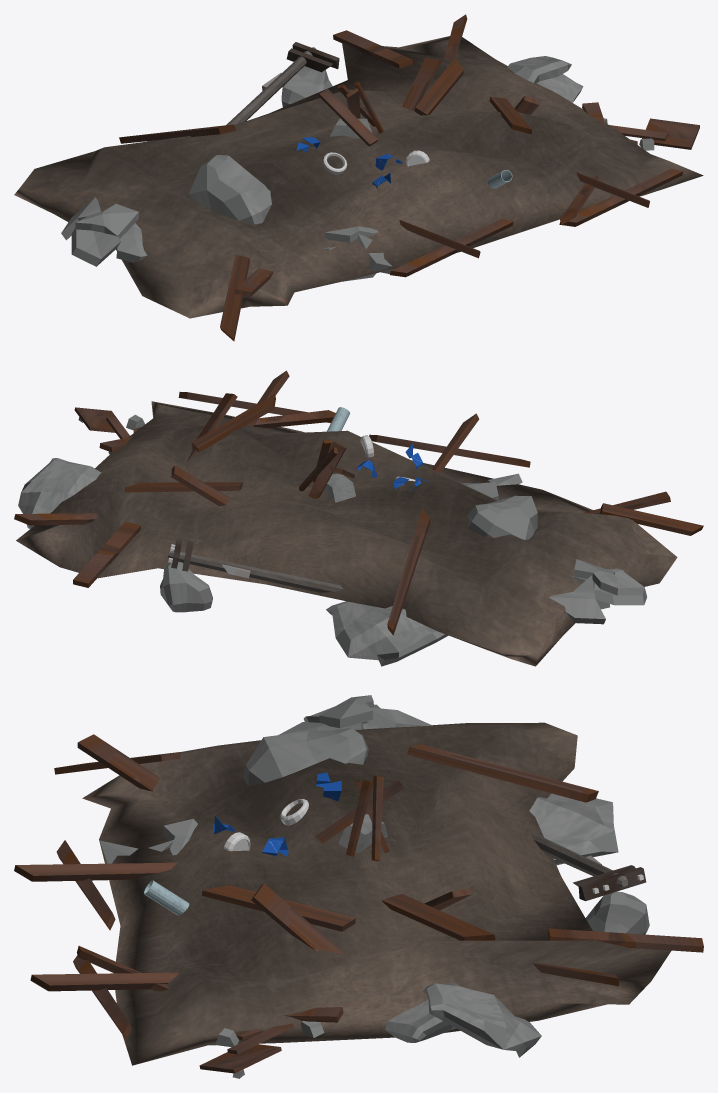
The model's file is DestroçosChão3.fbx.
3 renders of one model, top to bottom at view 1: azimuth 30°, elevation 25°; view 2: azimuth 150°, elevation 25°; view 3: azimuth 270°, elevation 25°, orthographic. The views are drawn at different scales.
Parts seen in each view (by area): view 1: DestroçoChão5, Cubo.007, Rock3.004, Cube.007, pCube17, Cube.008, pCube10, PosteQuebrado.001, pCube4.010, pCube4.009, Concret2.003, Rock3.003 (+5 smaller); view 2: DestroçoChão5, Concret2.004, Cubo.007, Concret2.003, Rock3.004, PosteQuebrado.001, Cube.007, pCube17, Rock3.003, Cube.008, pCube4.011, pCube4.009 (+6 smaller); view 3: DestroçoChão5, Concret2.003, Rock3.004, Concret2.004, Cube.007, pCube4.011, Cube.008, pCube10, pCube17, Cube.006, Cubo.007, PosteQuebrado.001 (+7 smaller).
Part boxes in pixels (<box>): DestroçoChão5: <box>14,36,703,318</box>; Cubo.007: <box>61,197,147,266</box>; Rock3.004: <box>189,155,271,224</box>; Cube.007: <box>559,168,683,226</box>; pCube17: <box>318,81,383,146</box>; Cube.008: <box>390,219,513,277</box>; pCube10: <box>582,102,699,150</box>; PosteQuebrado.001: <box>226,42,339,125</box>; pCube4.010: <box>402,57,463,115</box>; pCube4.009: <box>220,254,273,341</box>; Concret2.003: <box>507,56,583,102</box>; Rock3.003: <box>281,66,332,107</box>; DestroçoChão5: <box>16,401,677,666</box>; Concret2.004: <box>326,601,448,666</box>; Cubo.007: <box>549,559,646,624</box>; Concret2.003: <box>18,458,101,528</box>; Rock3.004: <box>466,495,537,540</box>; PosteQuebrado.001: <box>168,538,343,592</box>; Cube.007: <box>178,370,335,427</box>; pCube17: <box>299,439,355,502</box>; Rock3.003: <box>160,561,212,612</box>; Cube.008: <box>369,413,530,473</box>; pCube4.011: <box>187,393,275,461</box>; pCube4.009: <box>583,491,703,535</box>; DestroçoChão5: <box>82,722,671,1065</box>; Concret2.003: <box>385,982,541,1057</box>; Rock3.004: <box>243,728,368,785</box>; Concret2.004: <box>529,793,618,865</box>; Cube.007: <box>30,946,179,1039</box>; pCube4.011: <box>202,883,355,954</box>; Cube.008: <box>14,840,177,930</box>; pCube10: <box>199,1007,343,1078</box>; pCube17: <box>316,775,403,860</box>; Cube.006: <box>406,744,598,802</box>; Cubo.007: <box>278,695,432,735</box>; PosteQuebrado.001: <box>530,832,646,901</box>.
Size of the model in its own units: 2631 by 496 by 2026.
